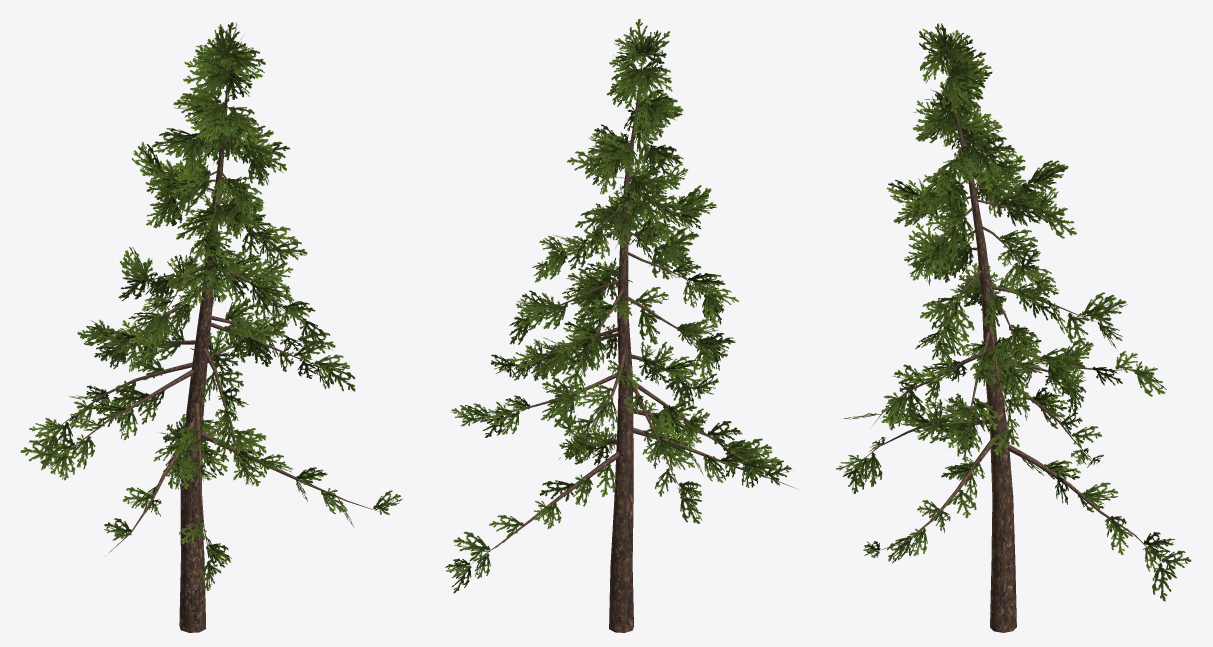
Rendered from pine-mature.glb.
The picture shows the model from 3 angles, left to right: view 1: azimuth 30°, elevation 25°; view 2: azimuth 150°, elevation 25°; view 3: azimuth 270°, elevation 25°; orthographic projection. The views are drawn at different scales.
Parts seen in each view (by area): view 1: needles, bark; view 2: needles, bark; view 3: needles, bark.
Part boxes in pixels (x1,y1,x2,y2): needles: [20, 22, 402, 590]; bark: [56, 60, 378, 632]; needles: [445, 18, 791, 593]; bark: [470, 66, 796, 632]; needles: [835, 23, 1191, 601]; bark: [865, 71, 1162, 632].
Size of the model in its own units: 5.01 by 9.4 by 5.12.
Materials: 2 (2 with a texture image).
